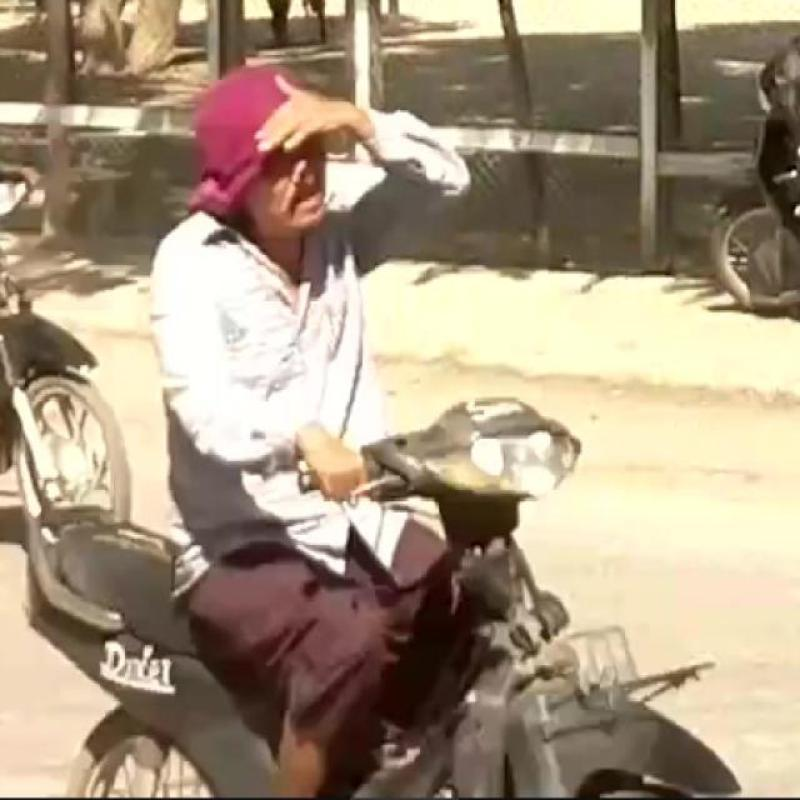nohelmet: (174, 38, 380, 272)
